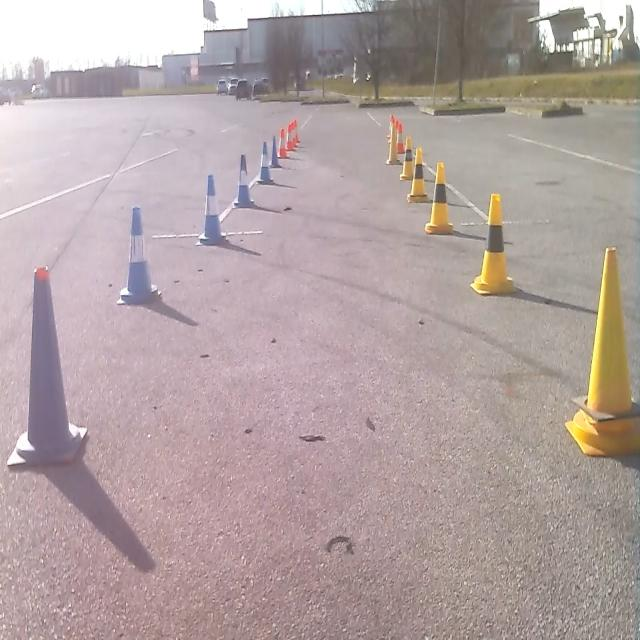blue_cone: (6, 263, 89, 468), (118, 203, 158, 304), (197, 172, 226, 246), (233, 152, 254, 208), (256, 140, 274, 184), (269, 133, 281, 168)
orange_cone: (277, 126, 288, 158), (394, 124, 405, 154), (285, 121, 295, 150)
yellow_cone: (564, 244, 639, 457), (470, 190, 516, 296), (424, 160, 453, 235), (407, 145, 428, 201), (399, 134, 414, 180), (386, 121, 400, 164)
